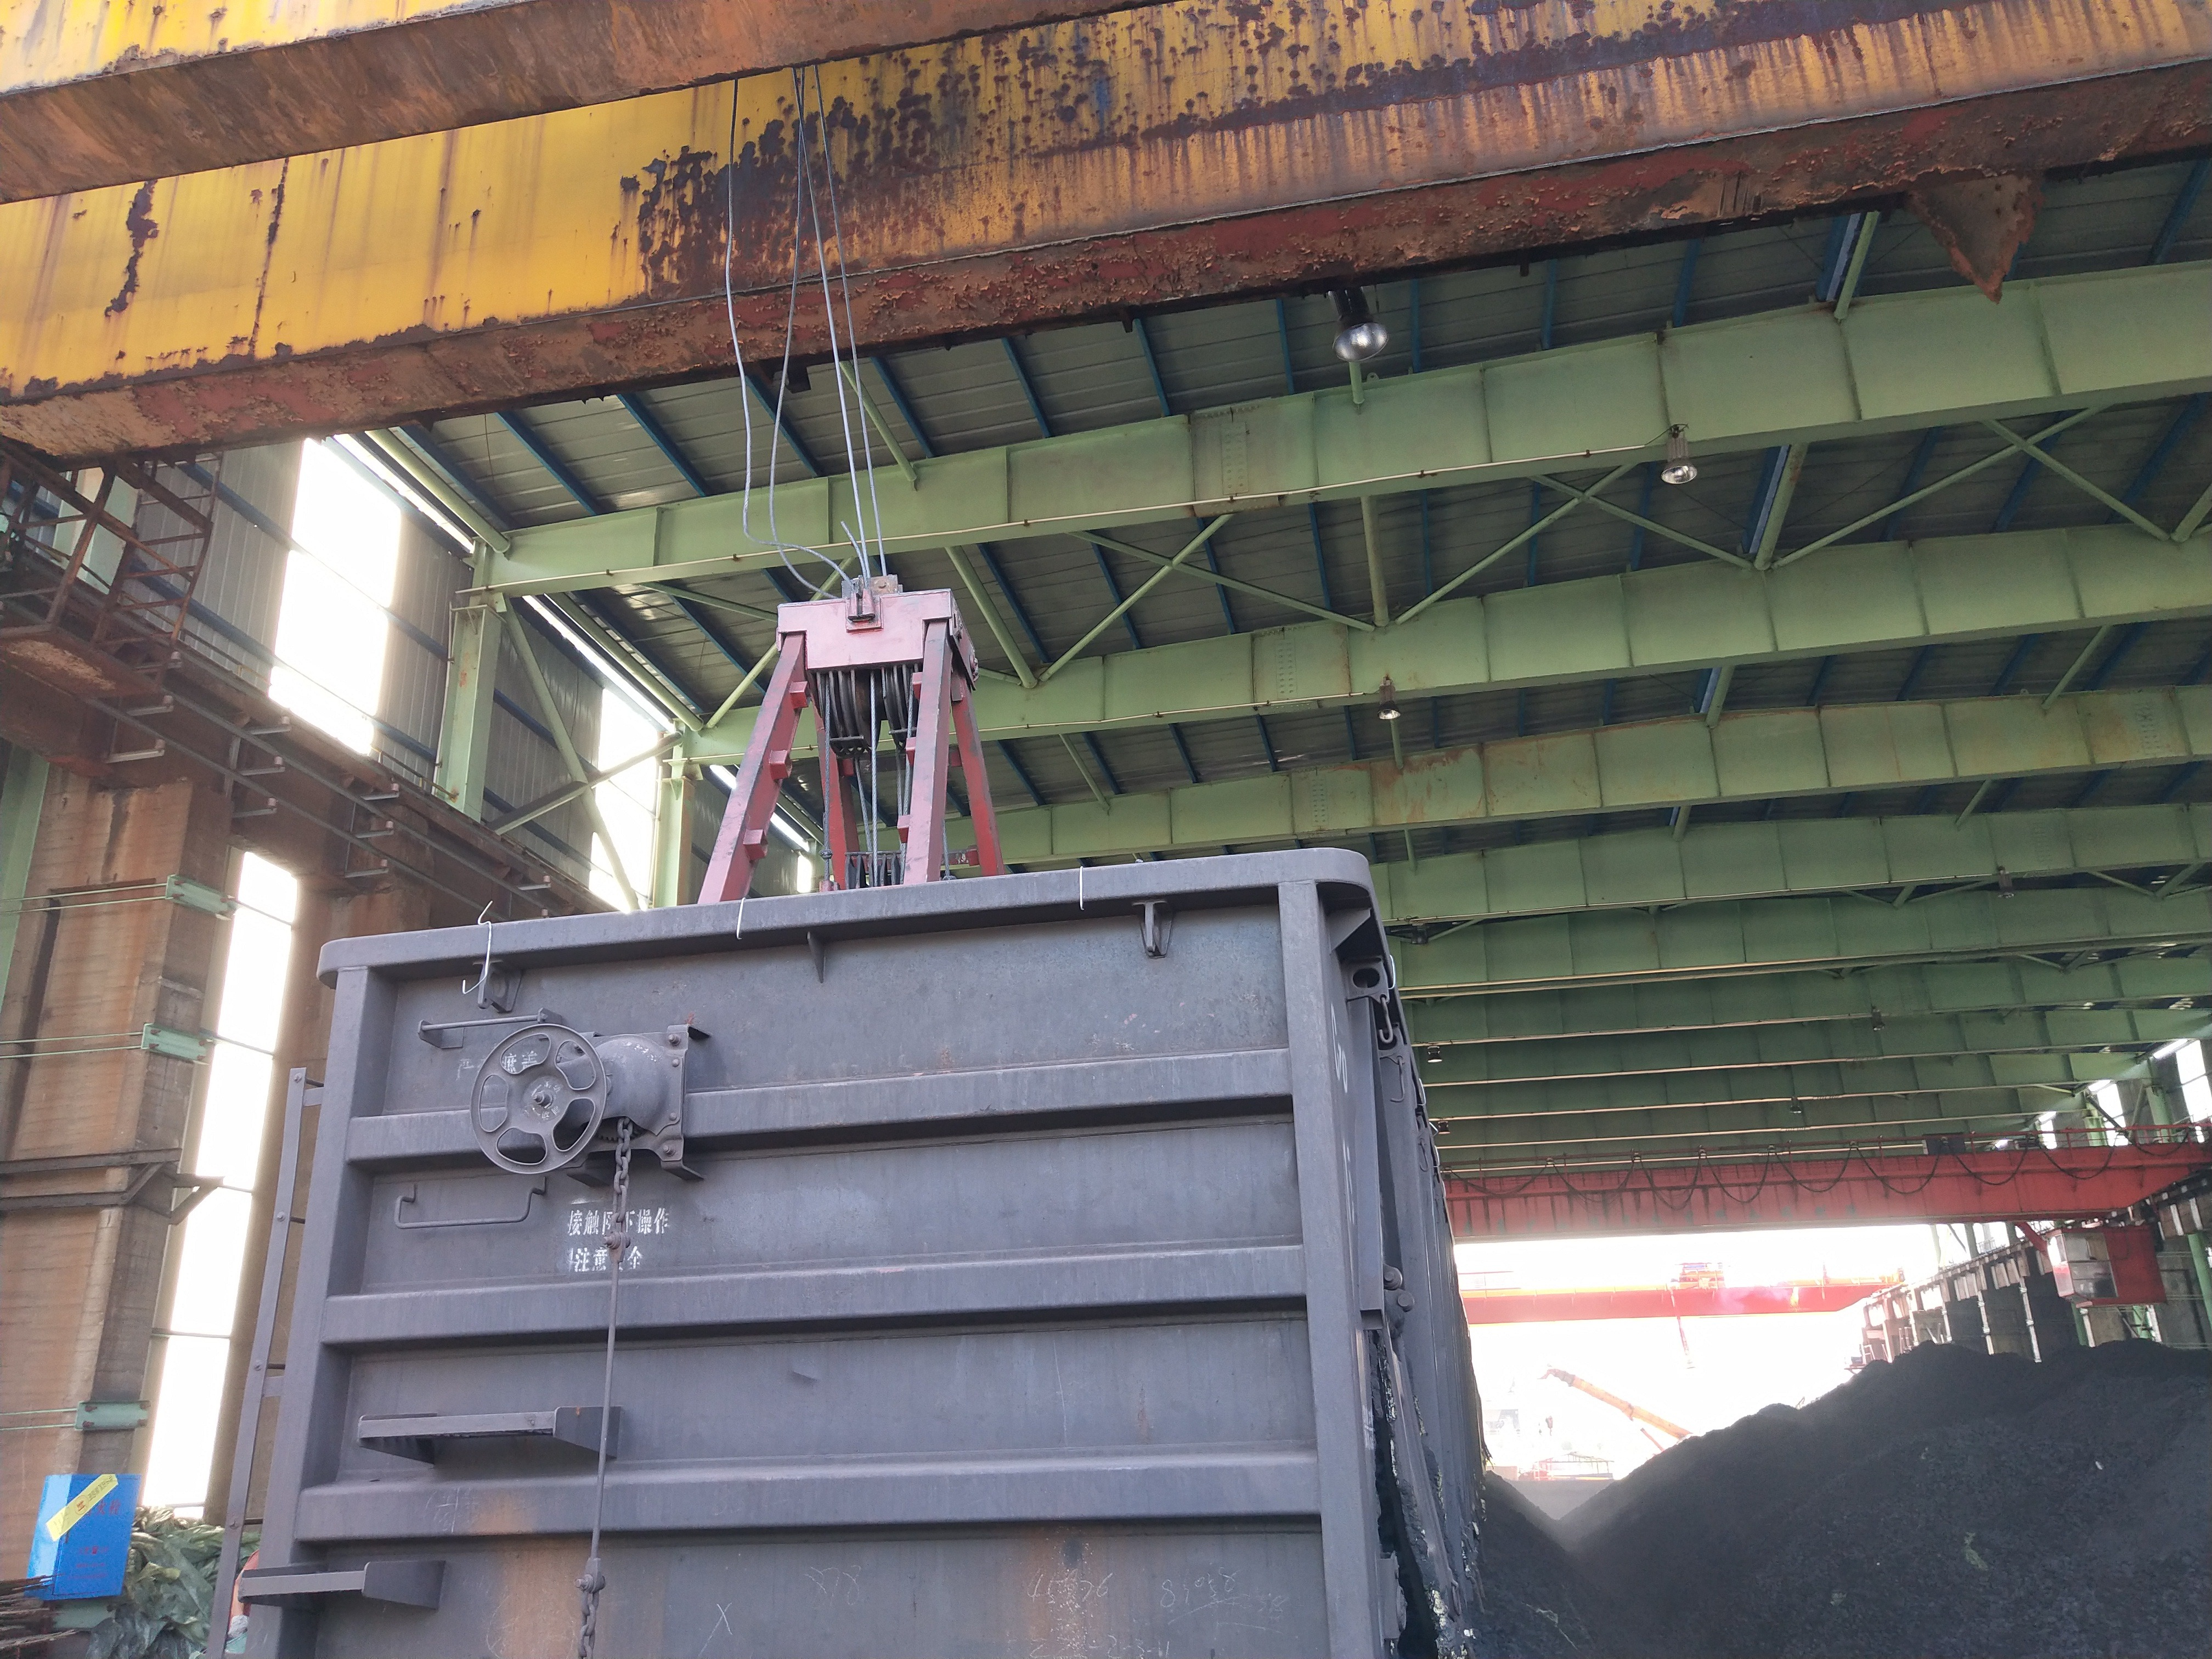grab: (665, 566, 1008, 911)
